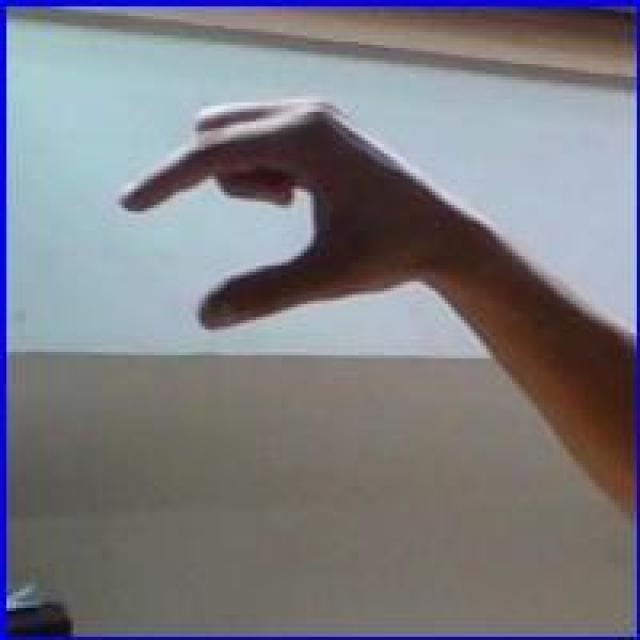Q: (110, 88, 433, 334)
